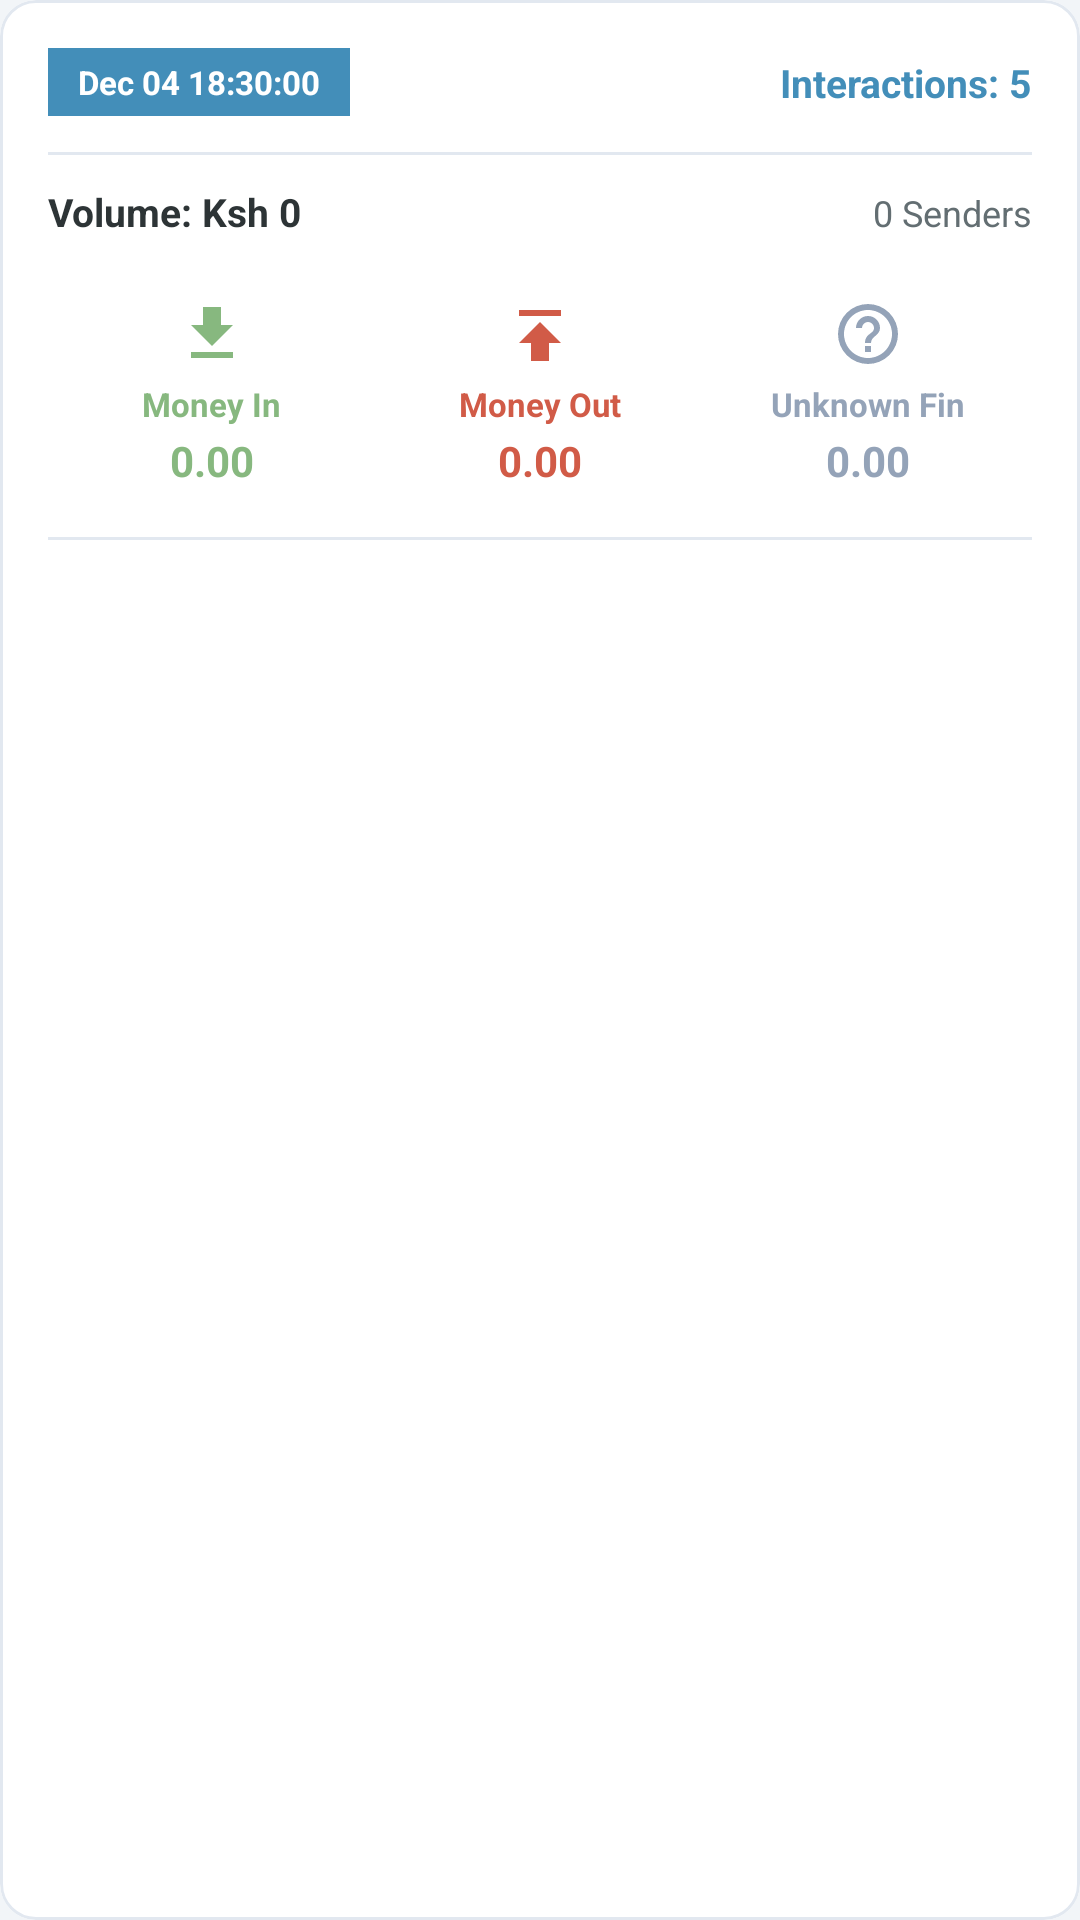

Where to tap for icons on this 1080 x 1920 app screen, as point (x, y):
Received: point (212, 332)
Sent: point (540, 335)
